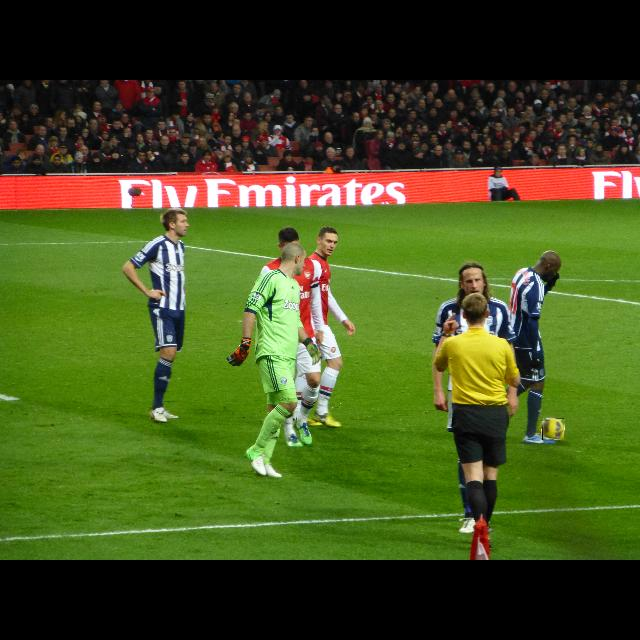Football: (542, 418, 564, 440)
